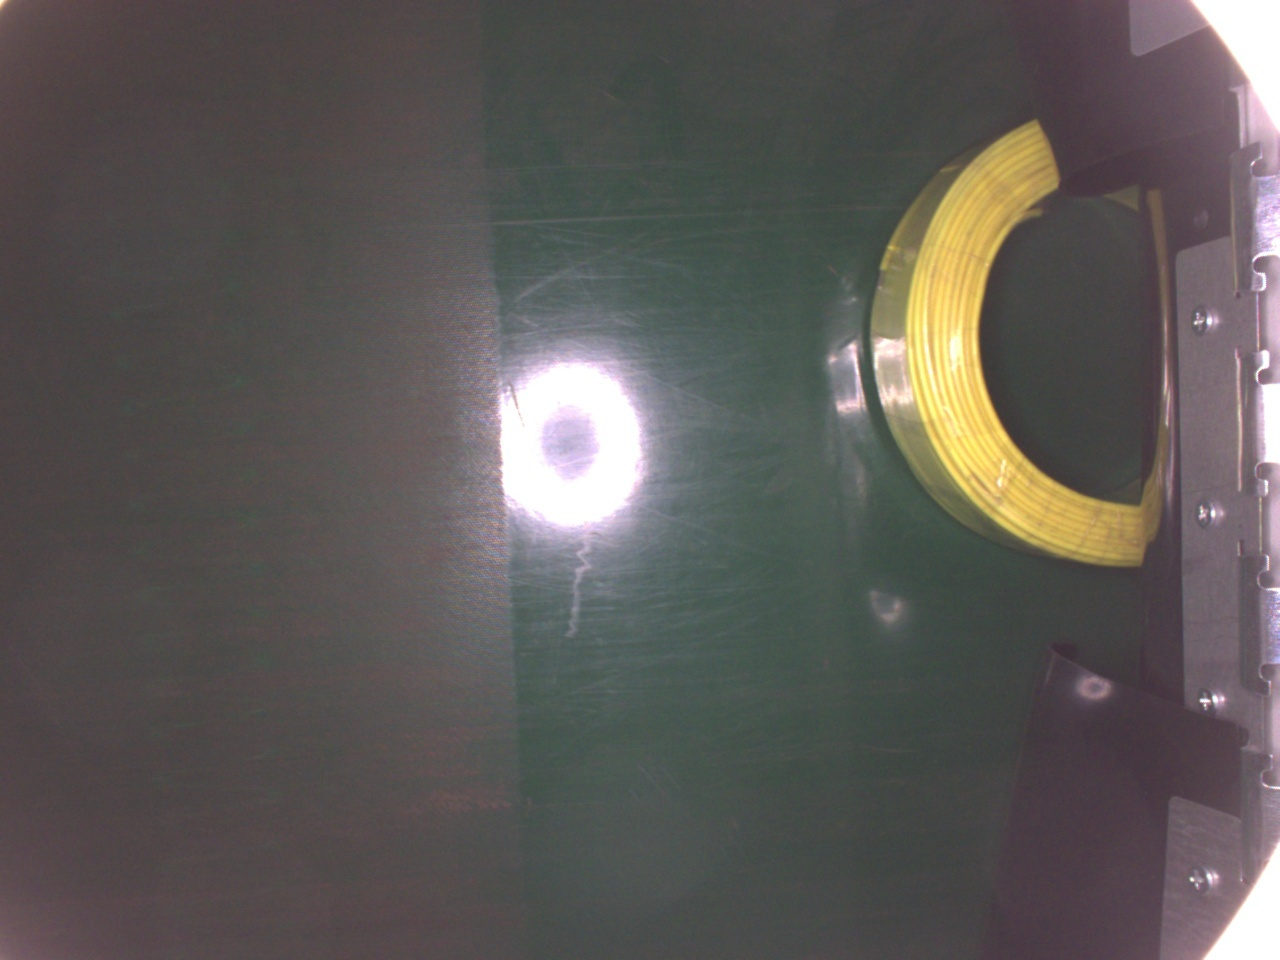yellow: (871, 113, 1174, 577)
